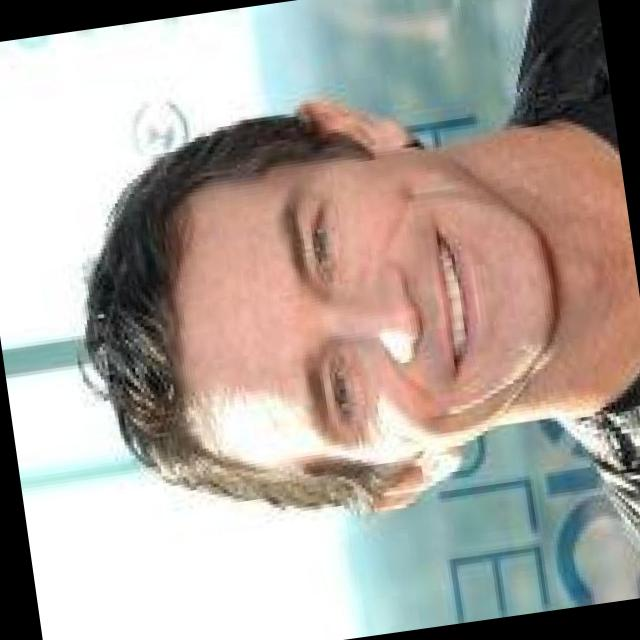bareface: (76, 128, 575, 503)
